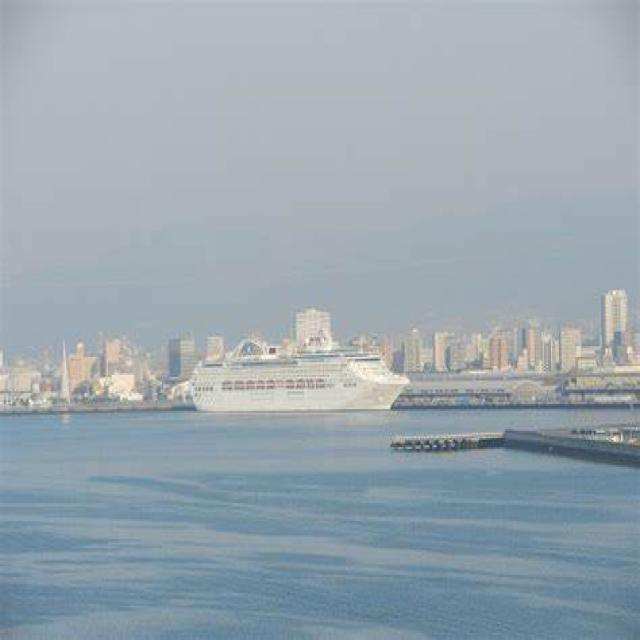passenger ship: (184, 333, 400, 420)
